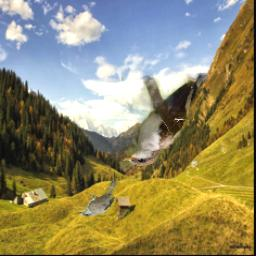Cuckoo: (120, 74, 206, 167), (77, 180, 117, 217)
